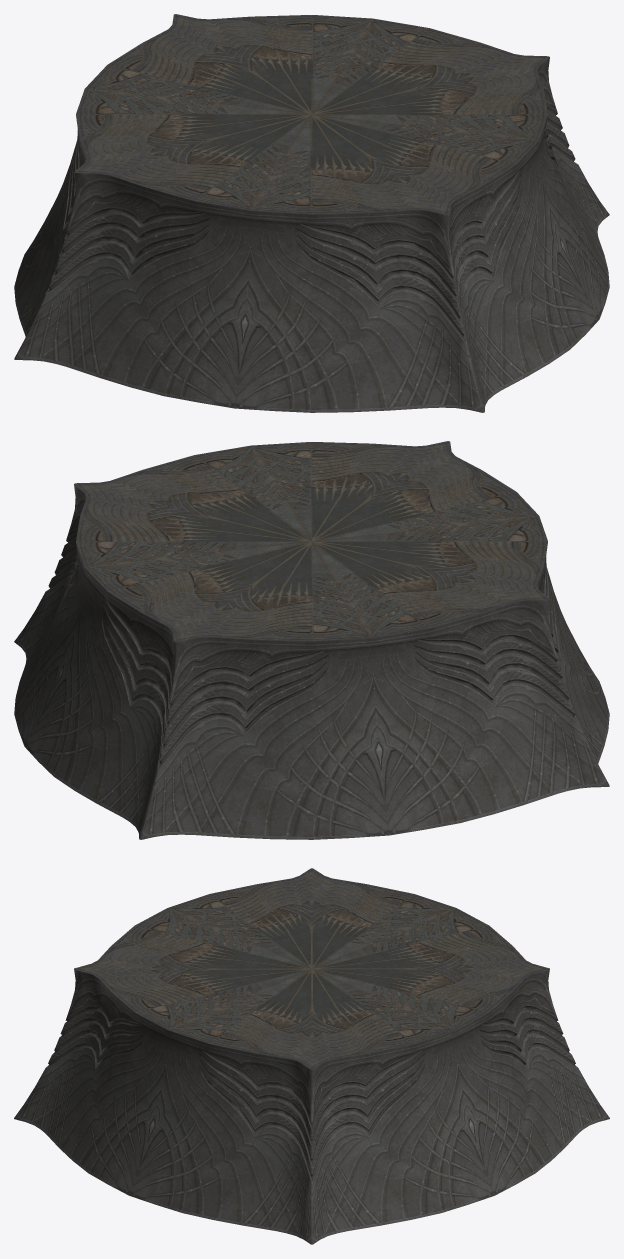
File: bg_rad_kamen_floor01_sm.obj
3 renders of one model, top to bottom at view 1: azimuth 30°, elevation 25°; view 2: azimuth 150°, elevation 25°; view 3: azimuth 270°, elevation 25°, orthographic. The views are drawn at different scales.
Parts seen in each view (by area): view 1: bg_rad_kamen_floor01_sm_0, bg_rad_kamen_floor01_sm_1; view 2: bg_rad_kamen_floor01_sm_0, bg_rad_kamen_floor01_sm_1; view 3: bg_rad_kamen_floor01_sm_0, bg_rad_kamen_floor01_sm_1.
Part boxes in pixels (x1,y1,x2,y2): bg_rad_kamen_floor01_sm_0: [14, 57, 609, 412]; bg_rad_kamen_floor01_sm_1: [74, 14, 549, 214]; bg_rad_kamen_floor01_sm_0: [14, 484, 609, 839]; bg_rad_kamen_floor01_sm_1: [74, 441, 549, 641]; bg_rad_kamen_floor01_sm_0: [14, 969, 609, 1244]; bg_rad_kamen_floor01_sm_1: [74, 868, 549, 1069].
Bounding box in the file's own units: 8.73 × 2.42 × 8.73.
Materials: 2 (2 with a texture image).
